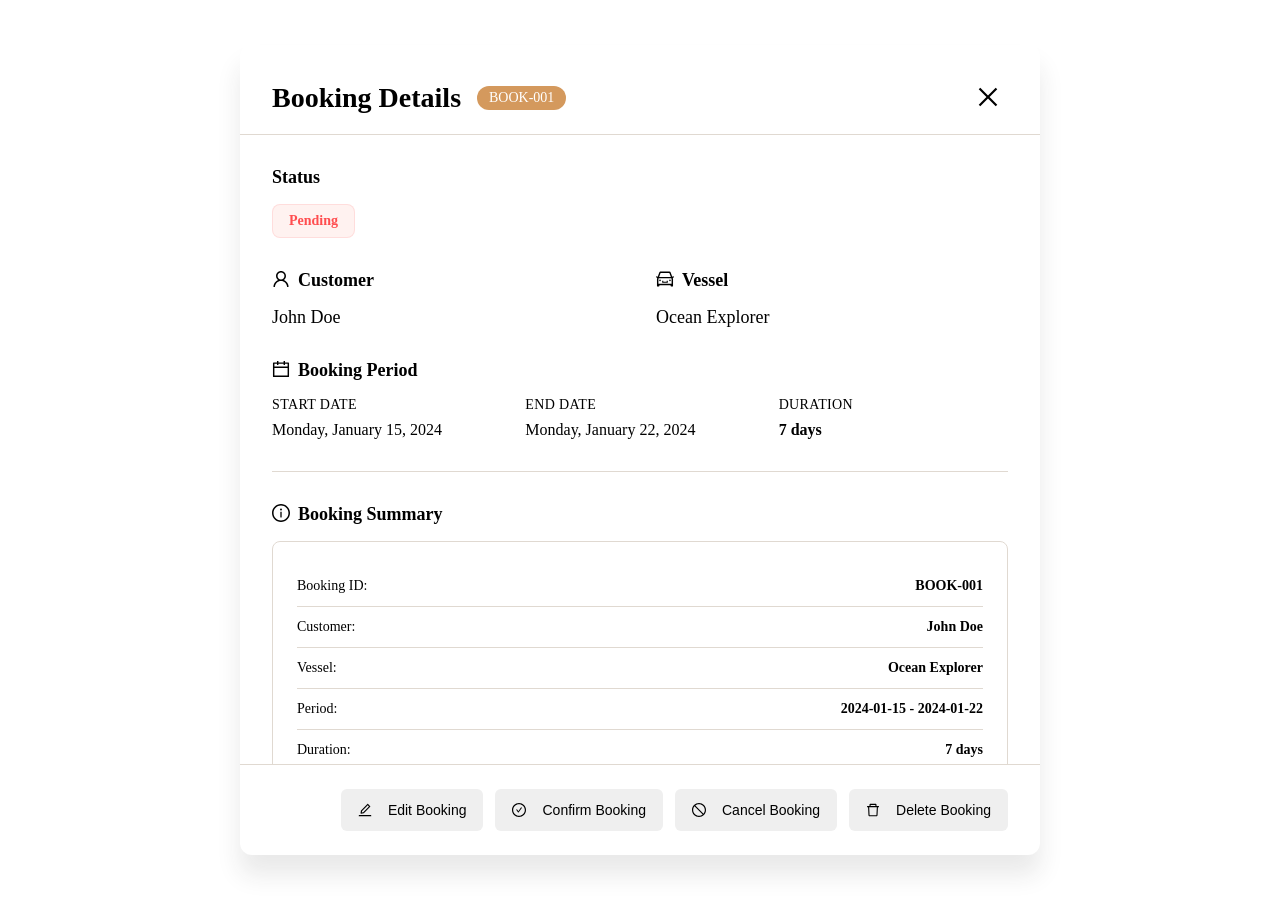
Scenario: BookingDetailModal › API Simulation and Loading States › shows loading state when confirming booking
Click the button "Confirm Booking".
click(579, 810)  # box [496,789,663,831]
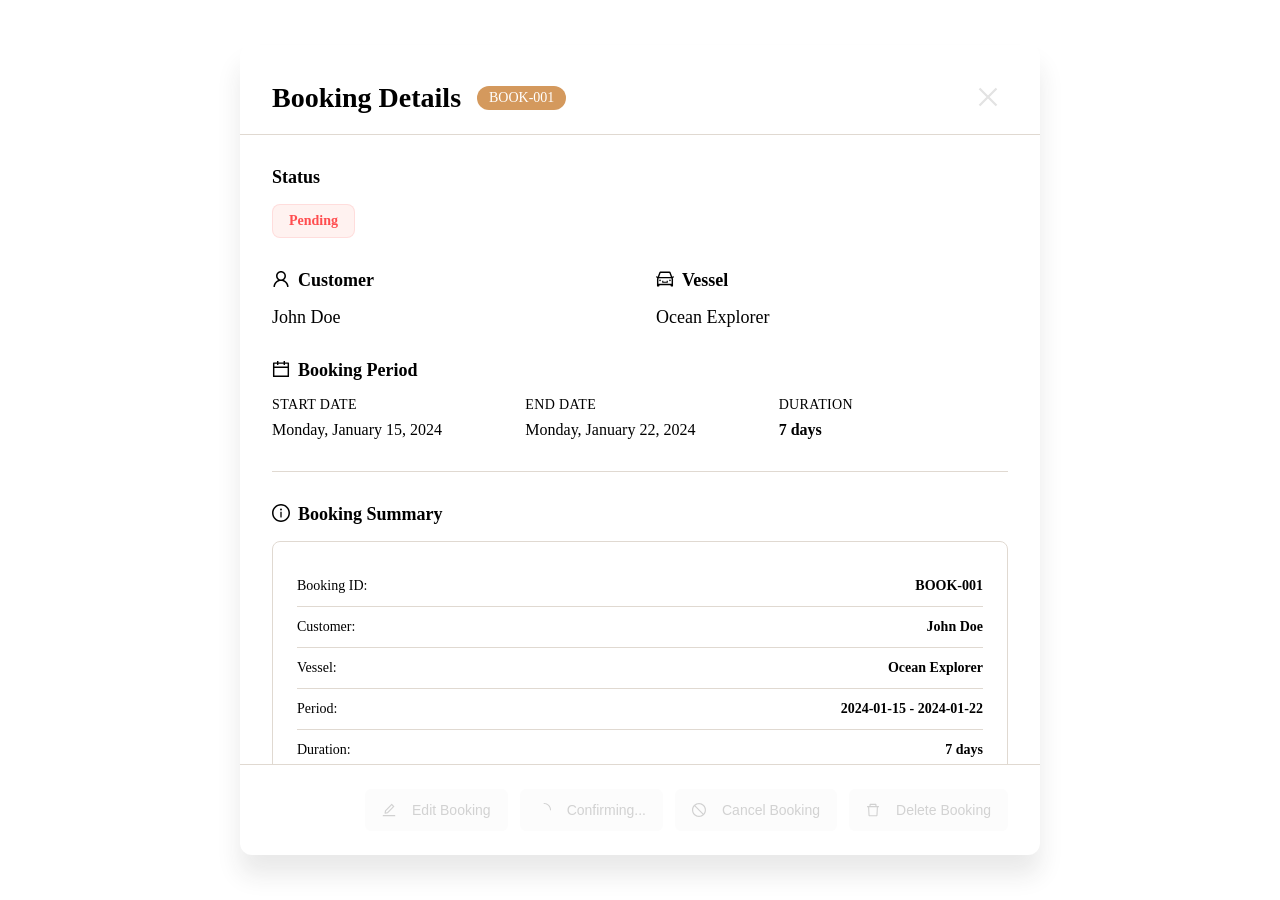
Result: the button "Confirming..." is disabled at [520,789,663,831]
